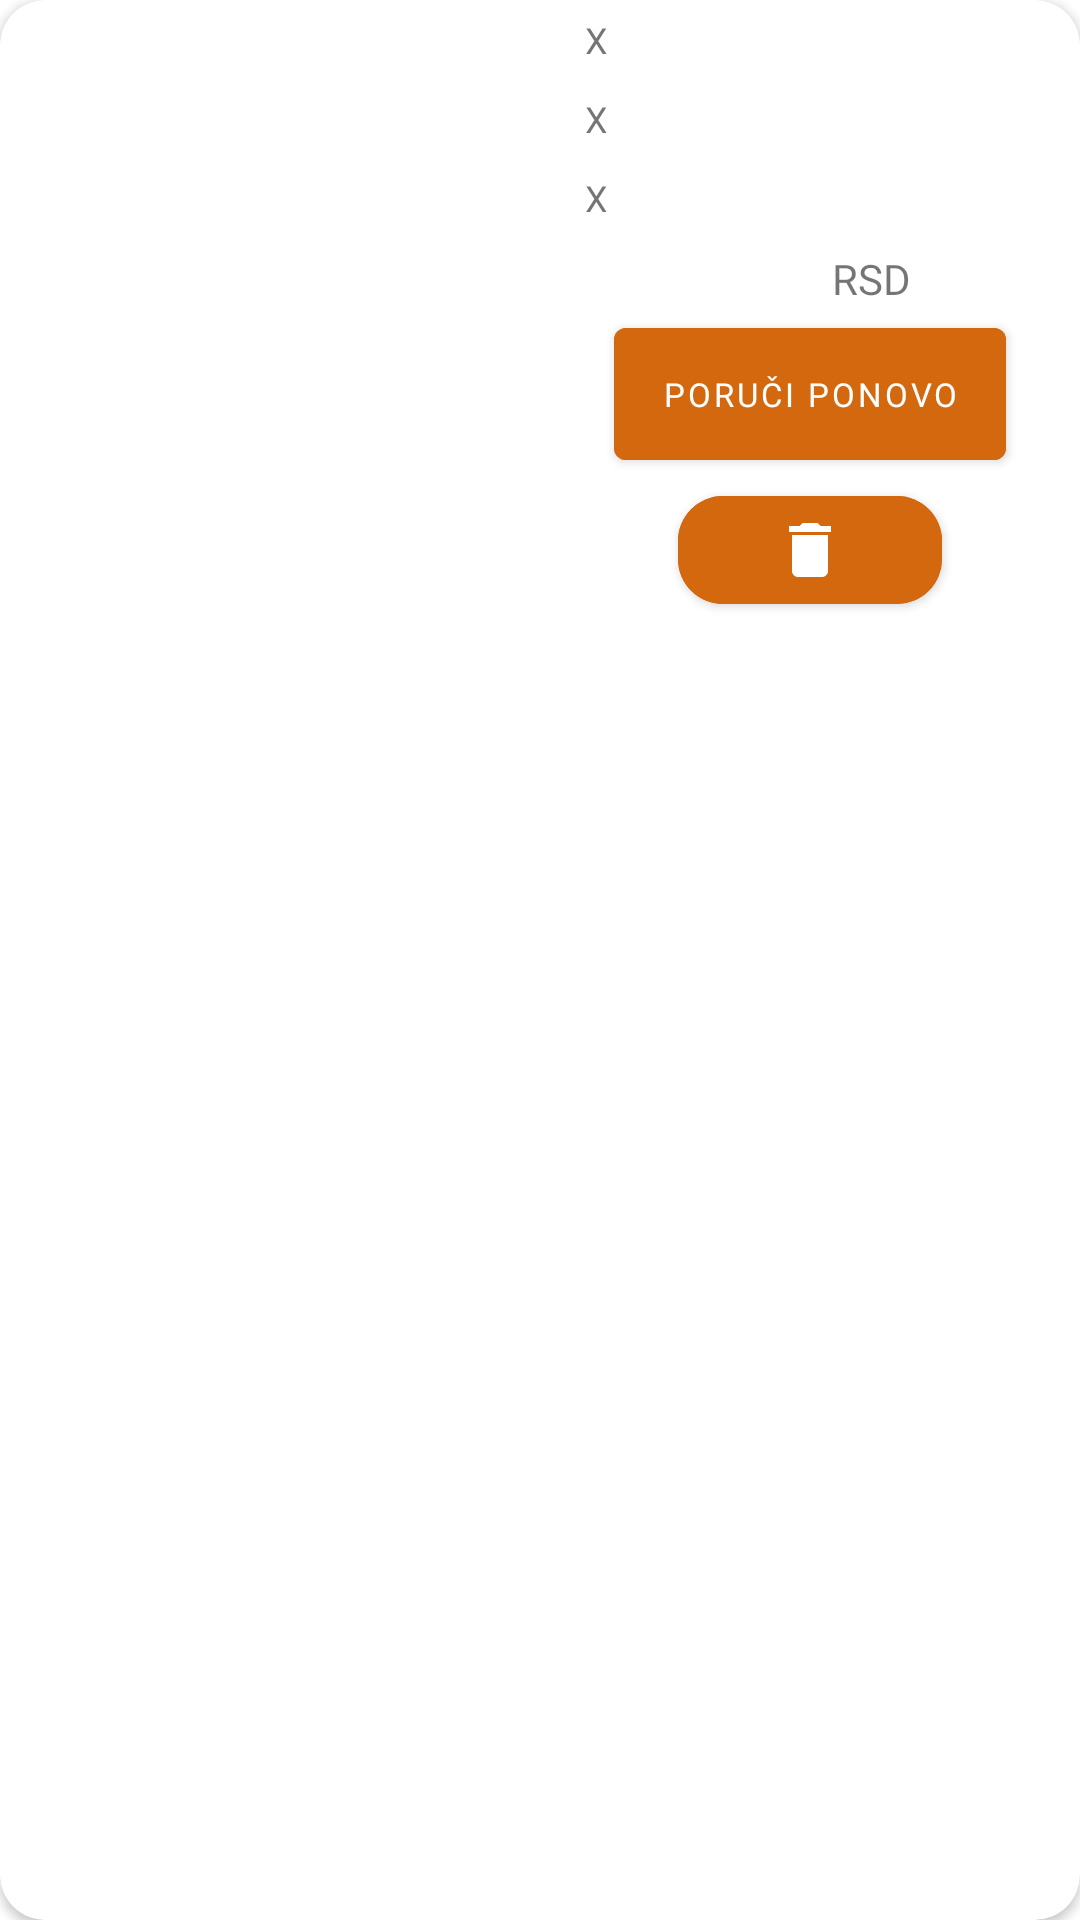

Named icons in this screenshot (1080 × 1920) and their centers, [x,y]:
delete: [810,550]
